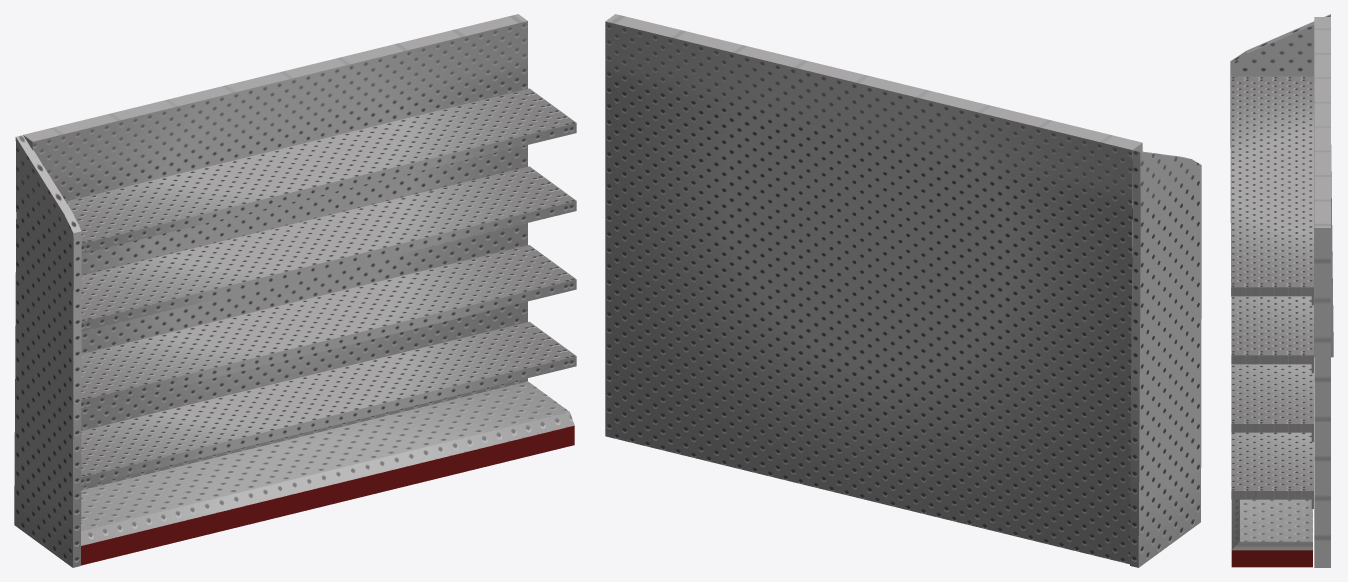
Rendered from Mesh_Static_Estante_00.fbx.
3 renders of one model, left to right at view 1: azimuth 30°, elevation 25°; view 2: azimuth 150°, elevation 25°; view 3: azimuth 270°, elevation 25°, orthographic. The views are drawn at different scales.
Parts seen in each view (by area): view 1: Cube.045; view 2: Cube.045; view 3: Cube.045.
Boxes of the visible parts, x1=… form: Cube.045: x1=14, y1=14, x2=576, y2=567; Cube.045: x1=605, y1=14, x2=1201, y2=567; Cube.045: x1=1230, y1=14, x2=1333, y2=567.
Bounding box in the file's own units: 993 × 733 × 202.
